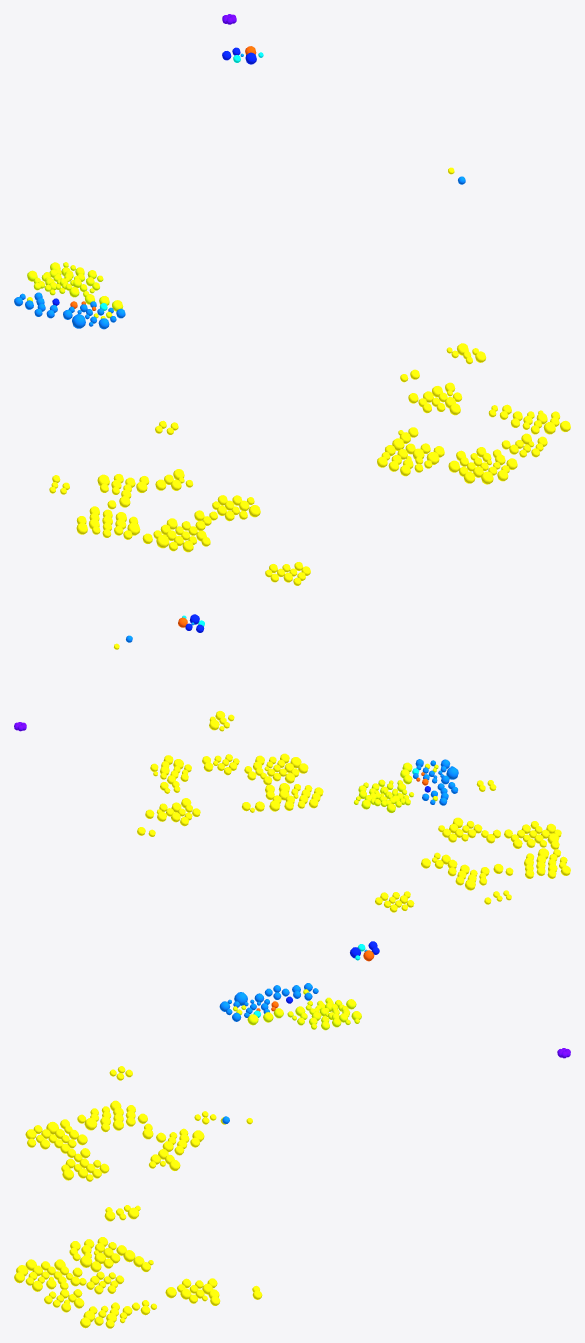
File: task-fd5e5aa51-layout.gltf
The picture shows the model from 3 angles, top to bottom: view 1: azimuth 30°, elevation 25°; view 2: azimuth 150°, elevation 25°; view 3: azimuth 270°, elevation 25°; orthographic projection. The views are drawn at different scales.
Visible parts, largest first — view 1: normal_java_files, normal_gz_files, normal_html_files; view 2: normal_java_files, normal_gz_files, normal_html_files; view 3: normal_java_files, normal_gz_files, normal_html_files.
Part boxes in pixels (<box>): normal_java_files: <box>49,167,570,585</box>; normal_gz_files: <box>27,262,123,318</box>; normal_html_files: <box>14,176,465,329</box>; normal_java_files: <box>114,643,570,912</box>; normal_gz_files: <box>354,762,438,812</box>; normal_html_files: <box>126,635,458,805</box>; normal_java_files: <box>14,1066,262,1328</box>; normal_gz_files: <box>233,989,361,1030</box>; normal_html_files: <box>219,983,318,1123</box>.
Bounding box in the file's own units: 136 × 110 × 144.
